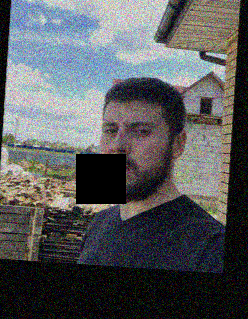without_mask: (98, 112, 162, 204)
